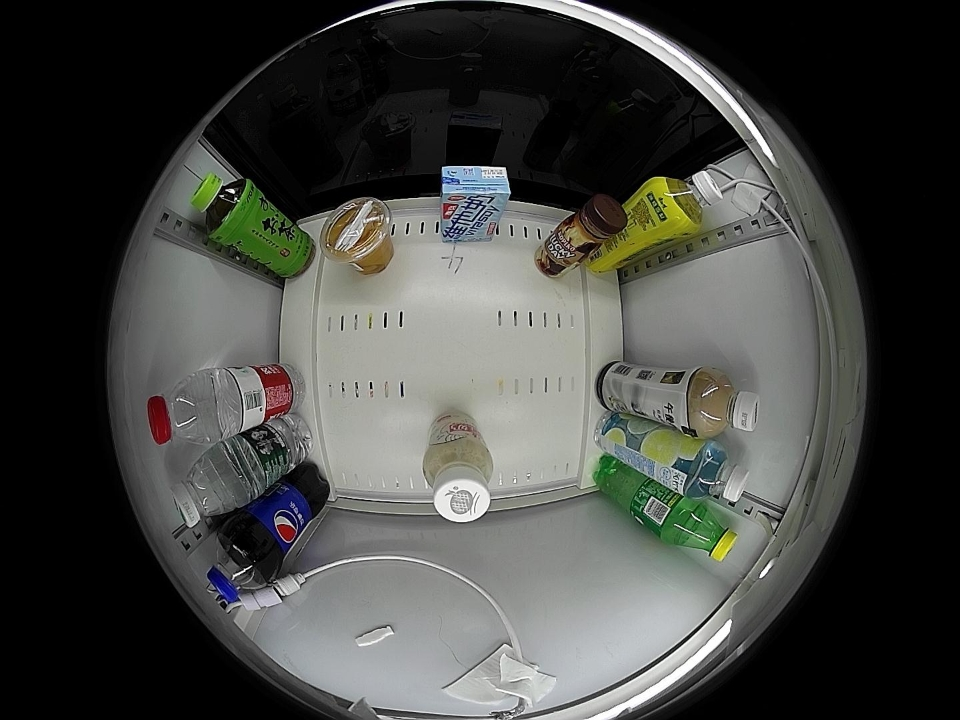baishikele-2: (205, 528, 273, 603)
bingtangxueli: (649, 168, 725, 237)
lujikafei: (562, 194, 626, 255)
nongfushanquan: (146, 371, 220, 447)
qinningshui: (682, 440, 750, 505)
weitanaiditang: (441, 165, 511, 213)
weiweidounai: (419, 436, 494, 525)
wuhounaicha: (687, 367, 761, 437)
xianguolao: (322, 197, 392, 269)
xuebi-b: (670, 500, 739, 564)
yibao: (169, 455, 242, 528)
yitengyuan: (190, 171, 257, 242)
